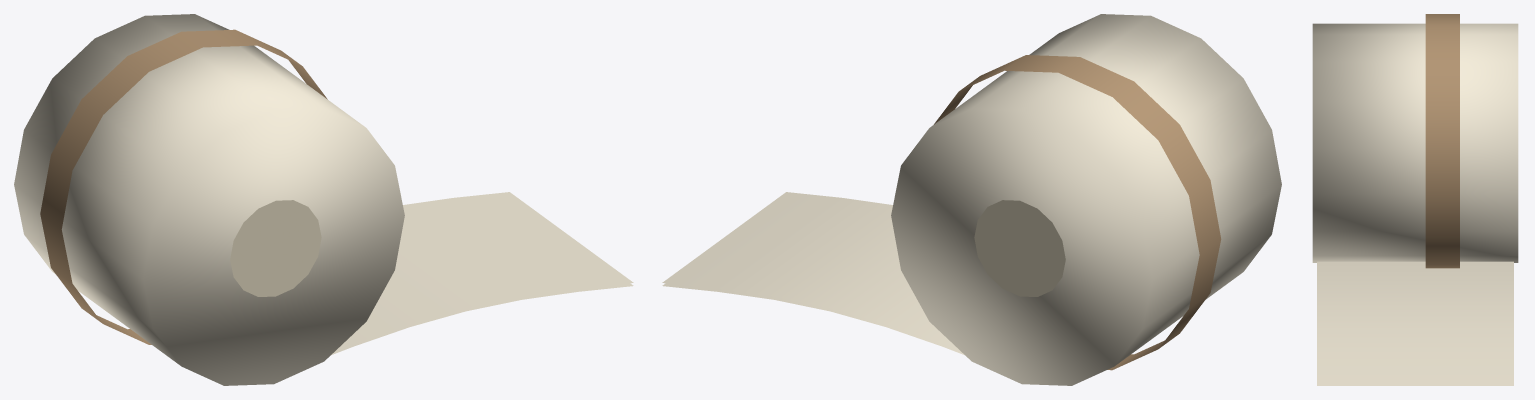
The model's file is ITEM_Bandage.fbx.
The picture shows the model from 3 angles, left to right: view 1: azimuth 30°, elevation 25°; view 2: azimuth 150°, elevation 25°; view 3: azimuth 270°, elevation 25°; orthographic projection. The views are drawn at different scales.
Visible parts, largest first — view 1: ITEM_Bandage; view 2: ITEM_Bandage; view 3: ITEM_Bandage.
Part boxes in pixels (x1,y1,x2,y2): ITEM_Bandage: (14, 14, 633, 385); ITEM_Bandage: (662, 14, 1281, 385); ITEM_Bandage: (1312, 14, 1518, 385).
Bounding box in the file's own units: 0.1348 × 0.0756 × 0.0616.
